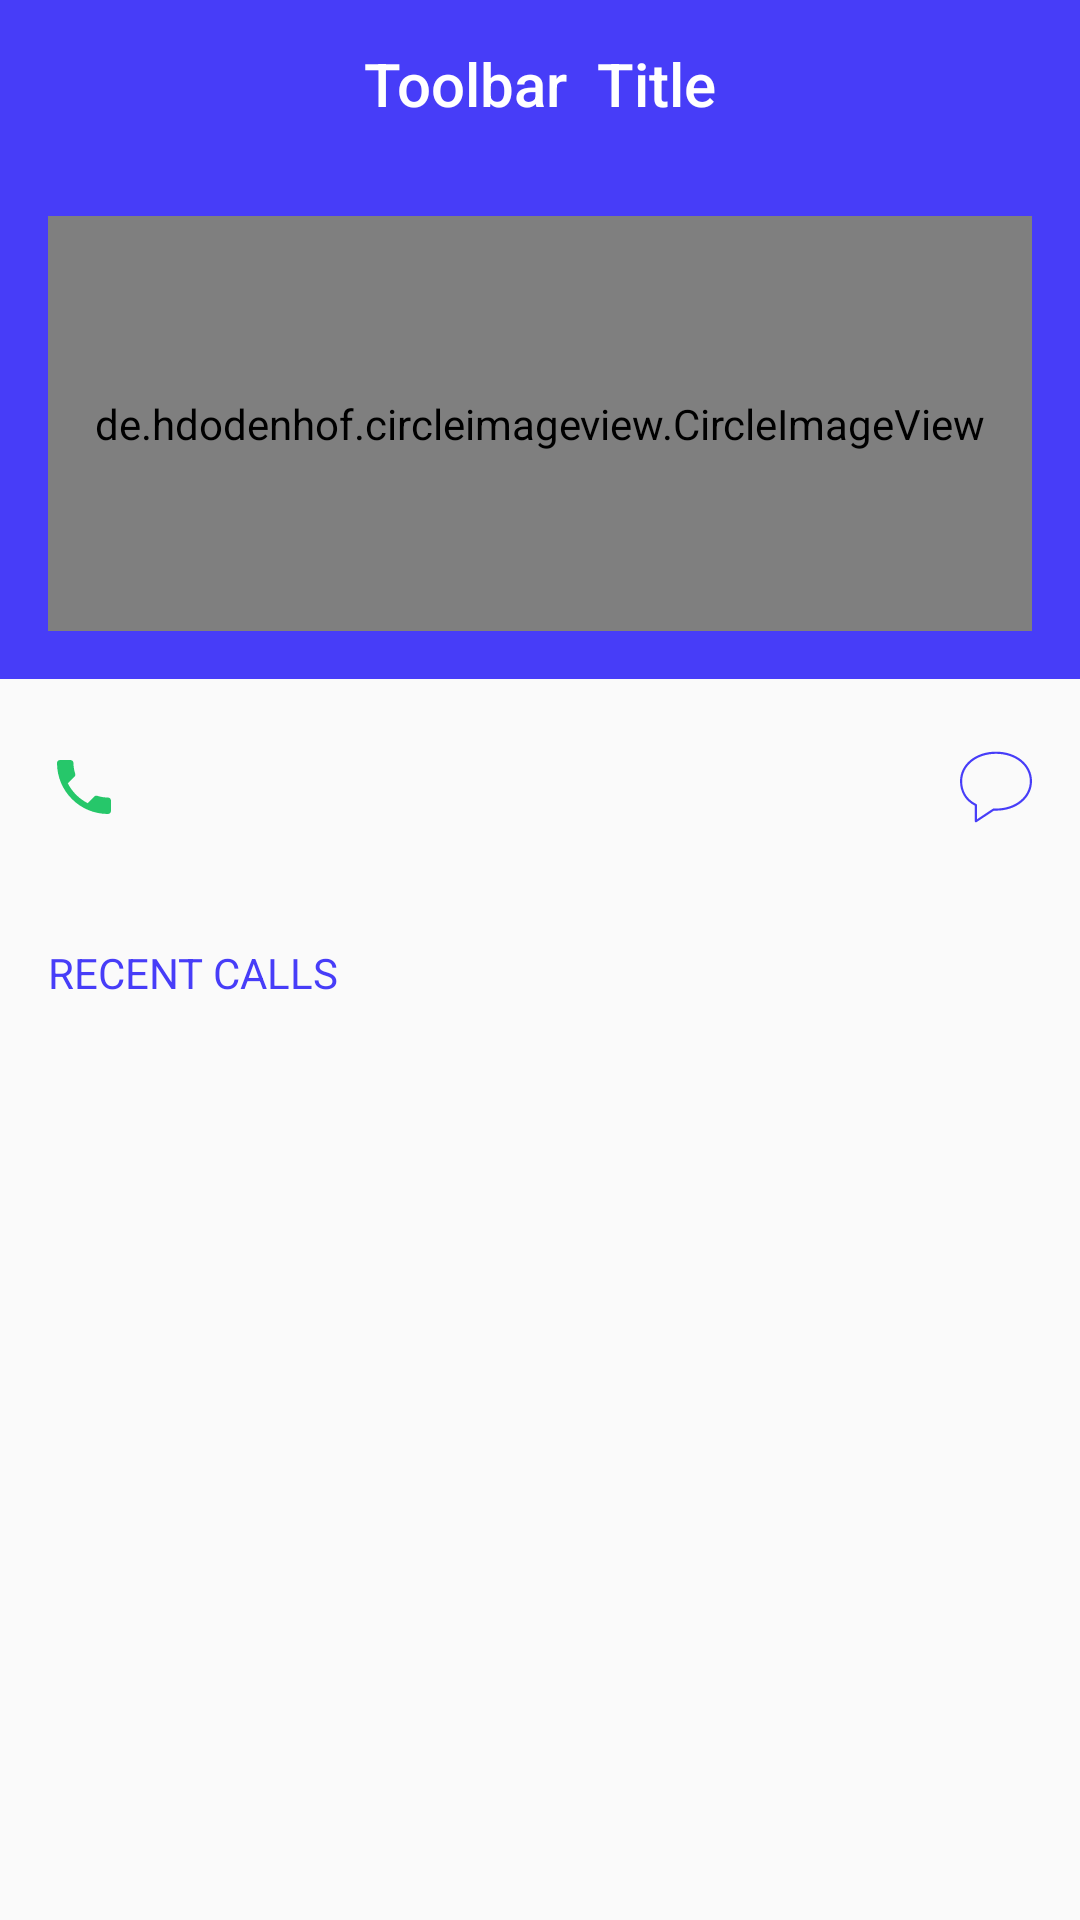

Named icons in this screenshot (1080px x 1920px) and their bounding boxes, (x1, y1, x2, y2):
speech bubble: (960, 751, 1032, 823)
